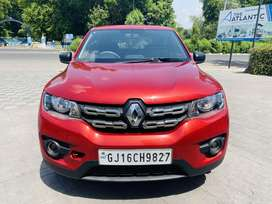GJ16CH9827: (98, 148, 172, 164)
